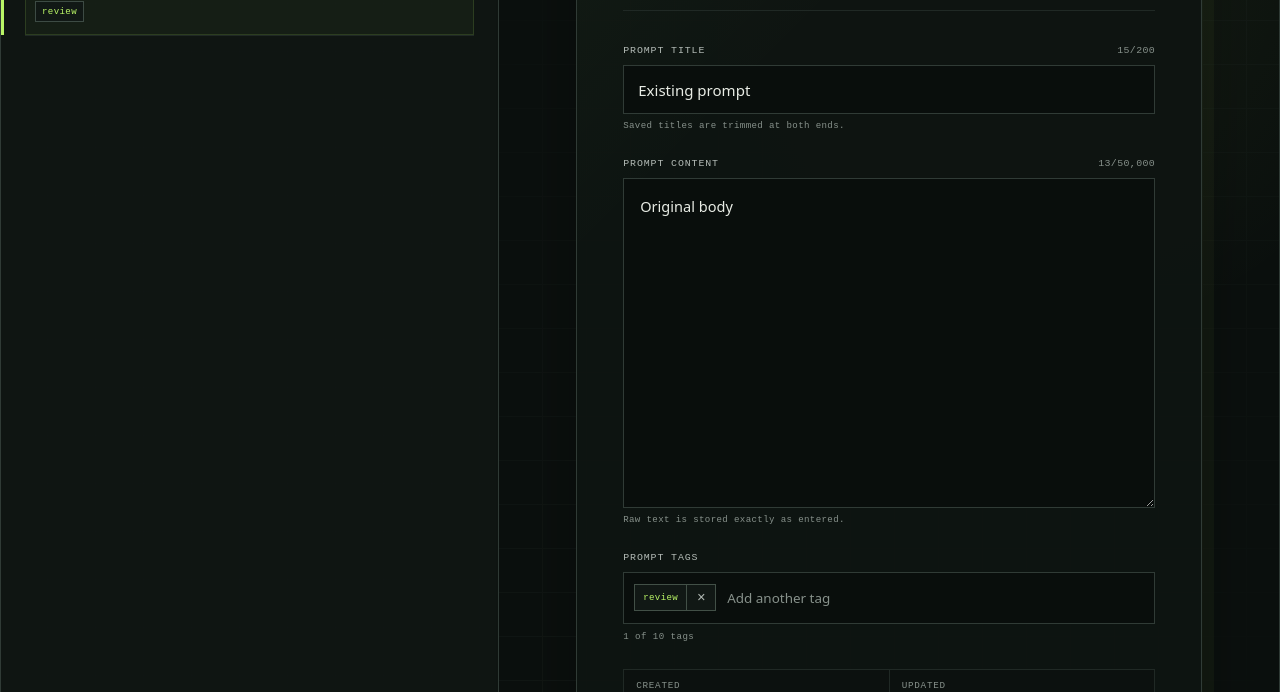
Prompt Registry editor integration › loads a selected record and adopts the canonical update response
The width and height of the screenshot is (1280, 692).
(page scrolled)
Replace the text in the text box showing "Original body" with "Locally edited body": (889, 343) x1=623 y1=178 x2=1155 y2=508
(page scrolled)
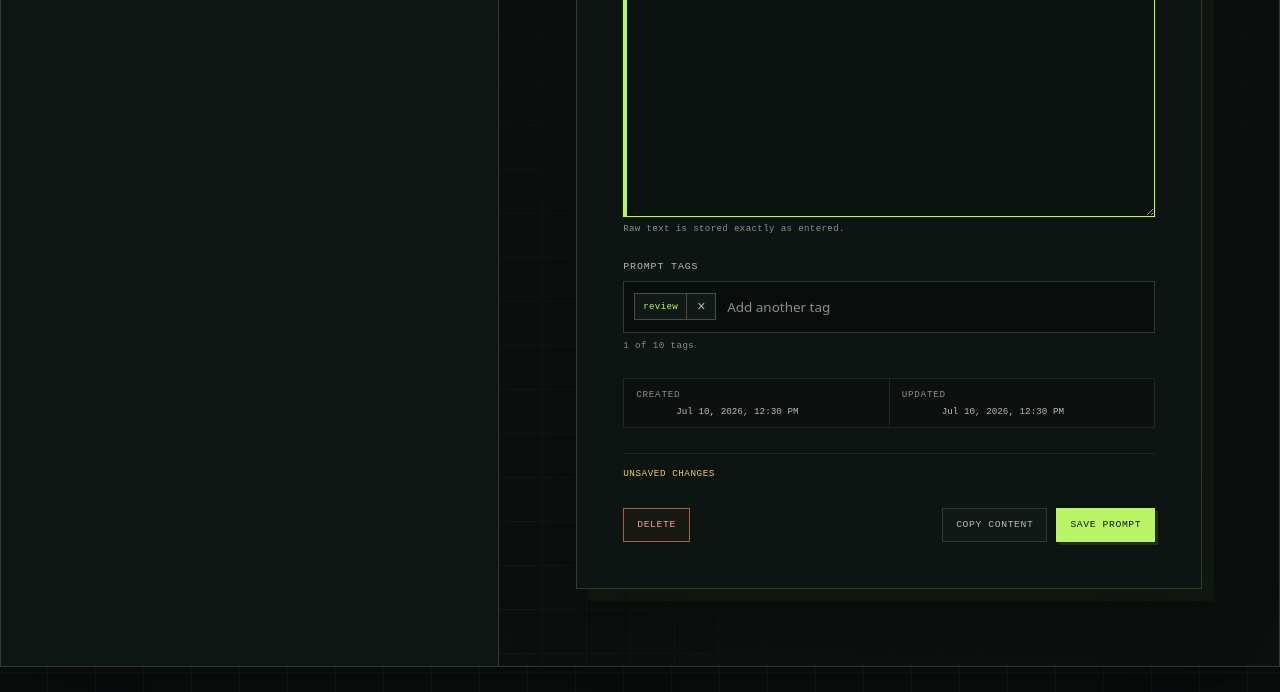
Click the button "Save prompt": (1106, 525) x1=1056 y1=508 x2=1155 y2=542
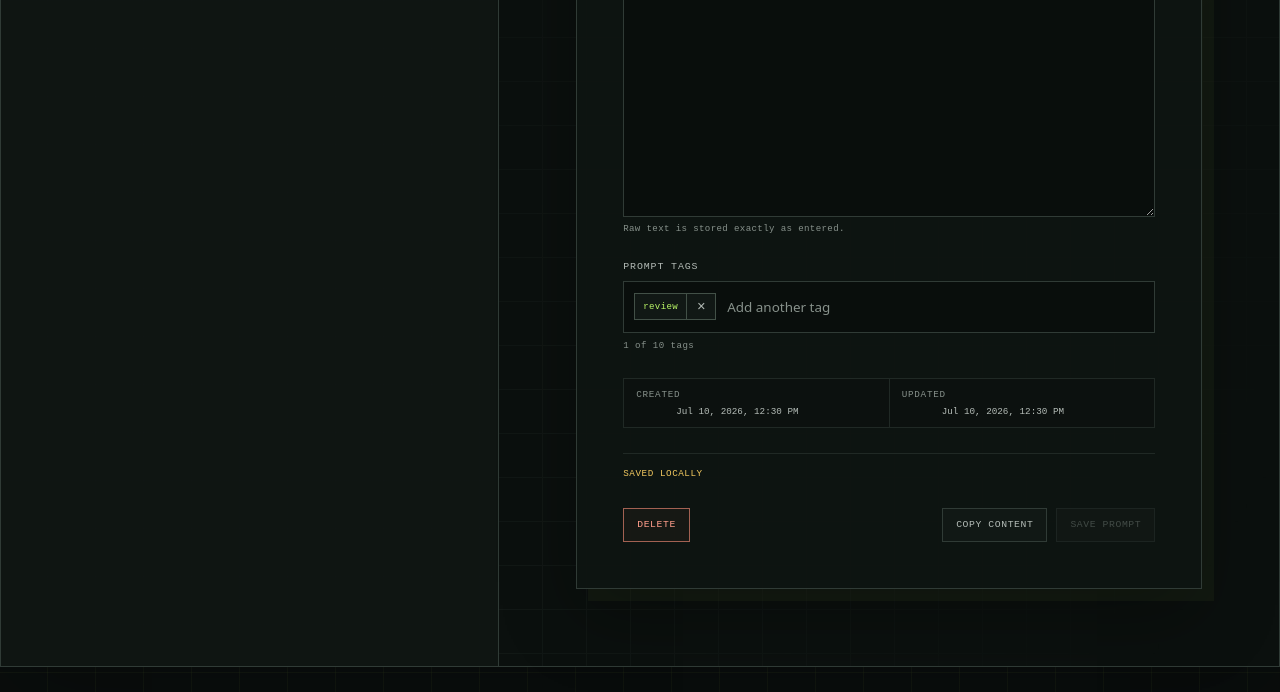
Result: the text "Saved locally" is shown at x1=623 y1=467 x2=703 y2=480
